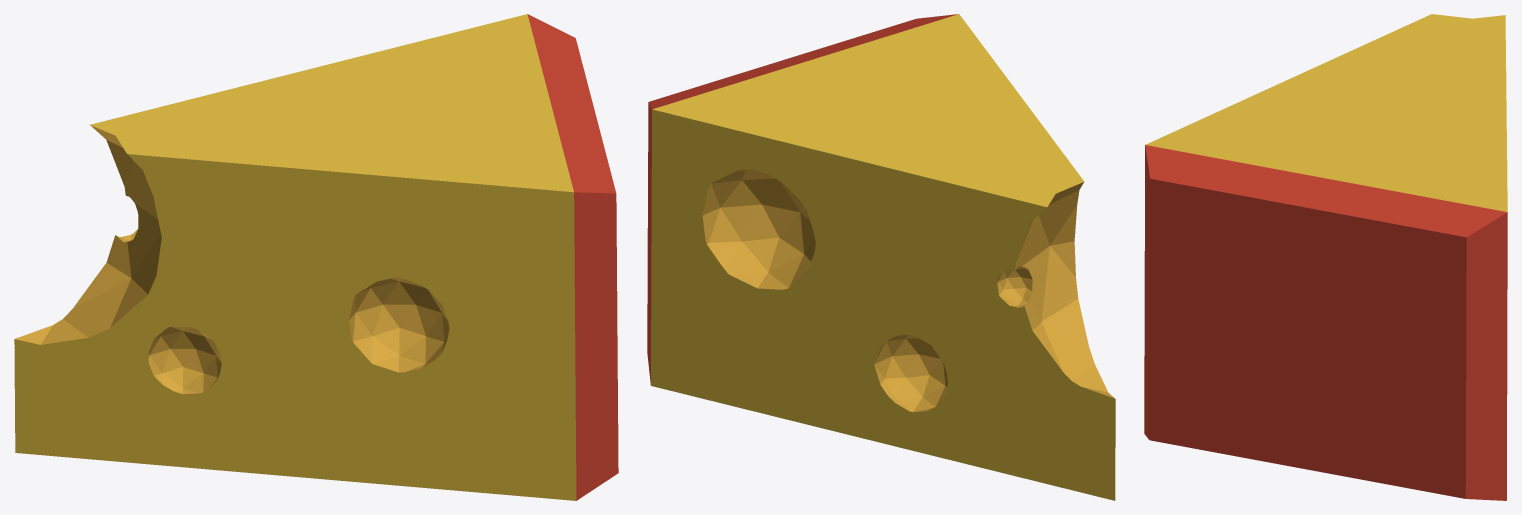
The model's file is Cheese (with 1 bite).fbx.
3 renders of one model, left to right at view 1: azimuth 30°, elevation 25°; view 2: azimuth 150°, elevation 25°; view 3: azimuth 270°, elevation 25°, orthographic. The views are drawn at different scales.
Parts seen in each view (by area): view 1: Cheese with 1 bite; view 2: Cheese with 1 bite; view 3: Cheese with 1 bite.
Boxes of the visible parts, x1=… form: Cheese with 1 bite: x1=14, y1=14, x2=618, y2=500; Cheese with 1 bite: x1=647, y1=14, x2=1115, y2=500; Cheese with 1 bite: x1=1144, y1=14, x2=1507, y2=500.
Bounding box in the file's own units: 368 × 202 × 229.
1 material, 1 textured.
